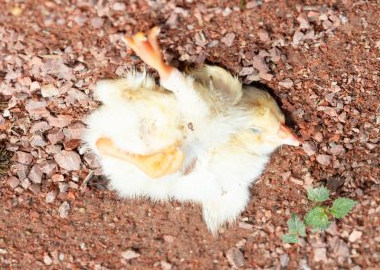Unhealthy: (79, 8, 319, 233)
